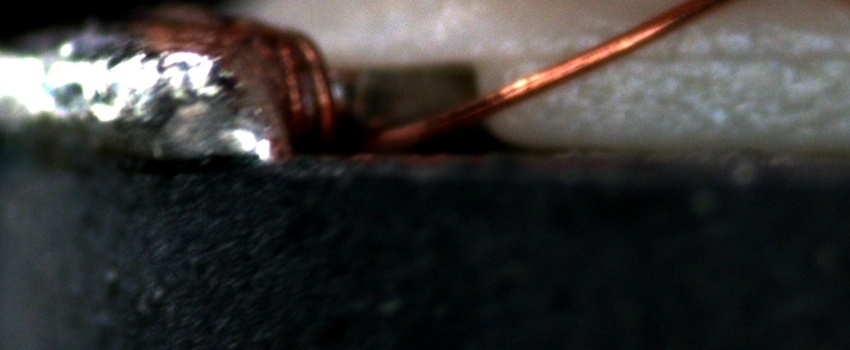DL: (519, 19, 850, 83)
TE: (258, 20, 334, 147)
